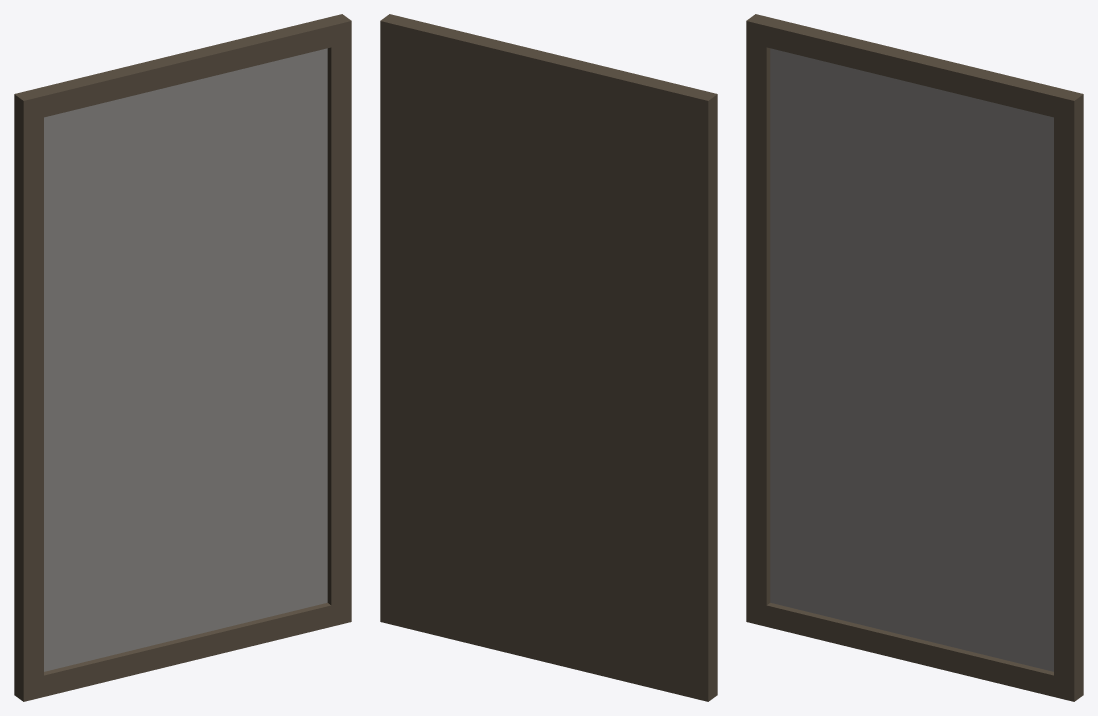
Rendered from SM_Props_Interior_House_Room_Photo_02.fbx.
3 renders of one model, left to right at view 1: azimuth 30°, elevation 25°; view 2: azimuth 150°, elevation 25°; view 3: azimuth 330°, elevation 25°, orthographic.
Visible parts, largest first — view 1: SM_Props_Interior_House_Room_Photo_02; view 2: SM_Props_Interior_House_Room_Photo_02; view 3: SM_Props_Interior_House_Room_Photo_02.
Part boxes in pixels (box(x1,y1,x2,y2)): SM_Props_Interior_House_Room_Photo_02: box(14, 14, 351, 701); SM_Props_Interior_House_Room_Photo_02: box(380, 14, 717, 701); SM_Props_Interior_House_Room_Photo_02: box(746, 14, 1083, 701).
Size of the model in its own units: 40 by 70 by 2.
